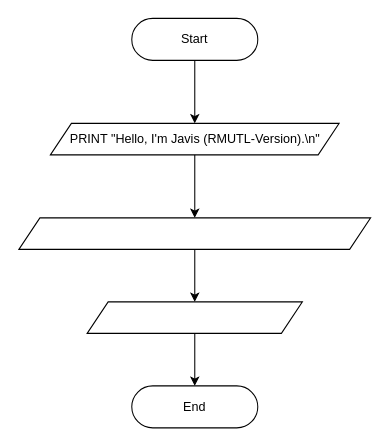
The diagram is 388 pixels wide and 446 high, and some of its shapes have lost their labels. Each missing label, with the centre of its shape:
PRINT "This is my first time to coding with C language.\n": point (194, 233)
PRINT "Today is my birthday.\n": point (194, 317)
